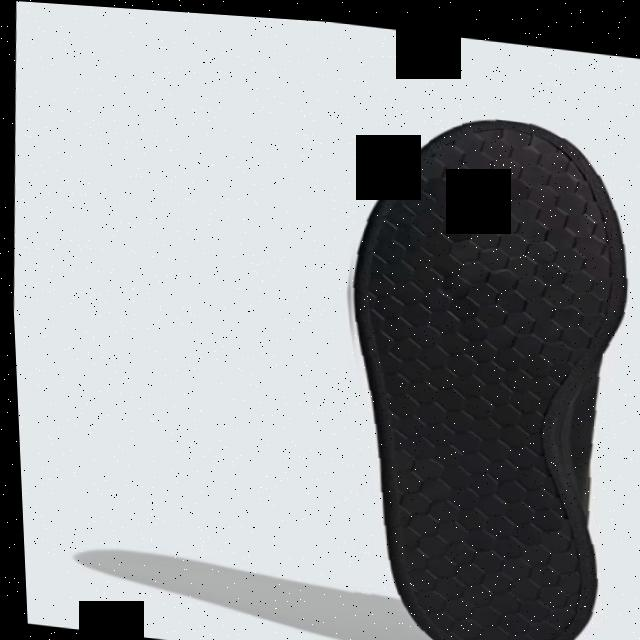shoe: (314, 95, 640, 640)
